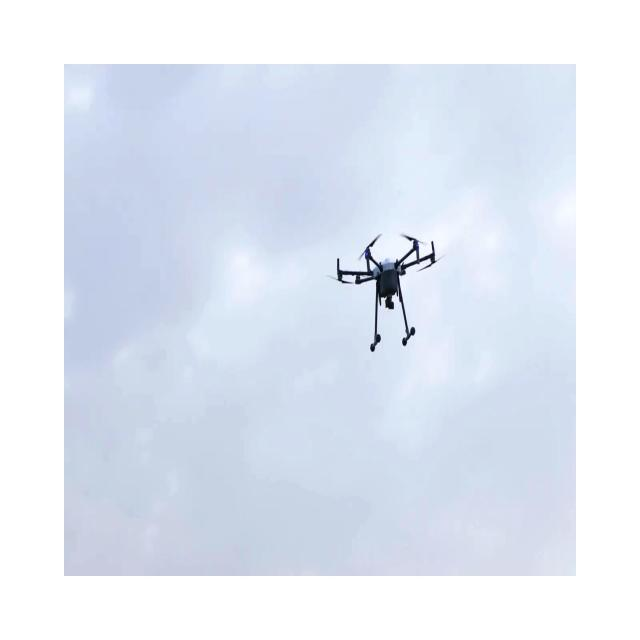drone: (326, 232, 445, 352)
